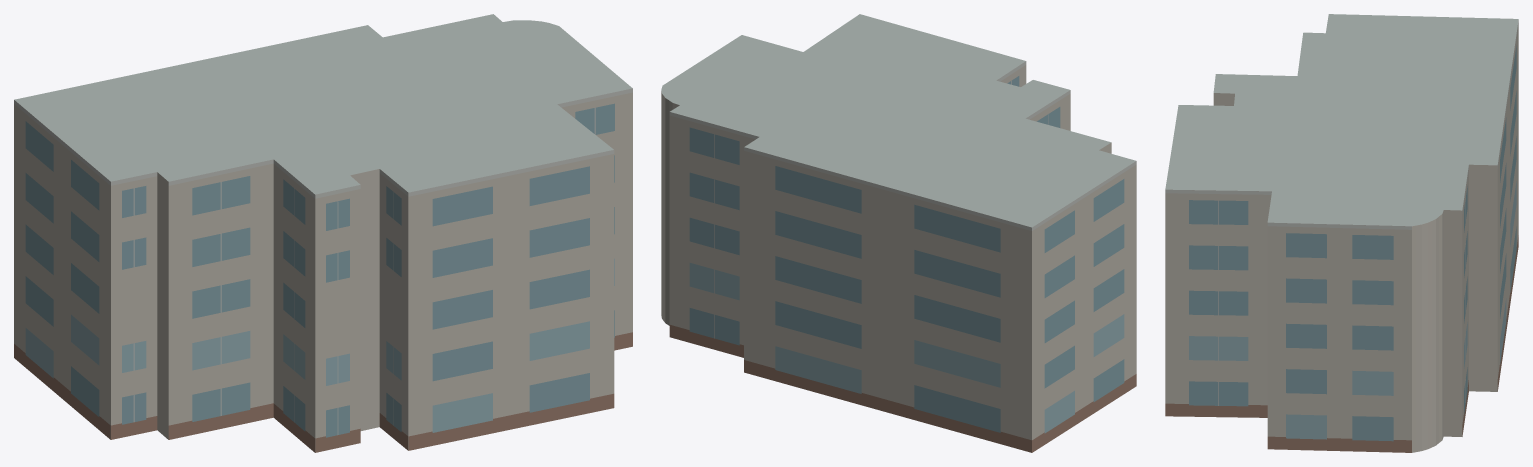
File: survey-upis-32983391.glb
The picture shows the model from 3 angles, left to right: view 1: azimuth 30°, elevation 25°; view 2: azimuth 150°, elevation 25°; view 3: azimuth 270°, elevation 25°; orthographic projection. The views are drawn at different scales.
Parts seen in each view (by area): view 1: survey-upis-32983391.tmp; view 2: survey-upis-32983391.tmp; view 3: survey-upis-32983391.tmp.
Part boxes in pixels (box(x1,y1,x2,y2)): survey-upis-32983391.tmp: box(14, 14, 632, 452); survey-upis-32983391.tmp: box(661, 14, 1136, 452); survey-upis-32983391.tmp: box(1165, 14, 1518, 452).
Bounding box in the file's own units: 30.75 × 15.3 × 21.64.
